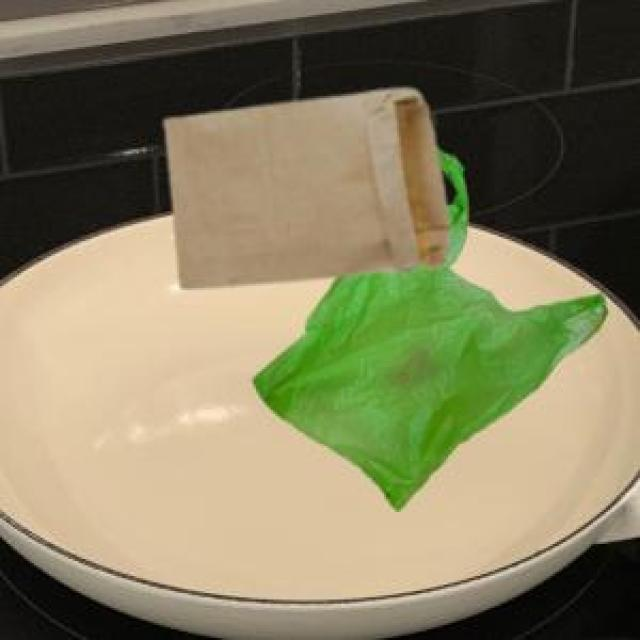paper: (160, 85, 446, 284)
